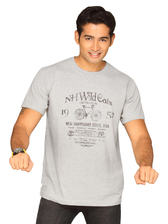clothoes: (22, 58, 153, 206)
